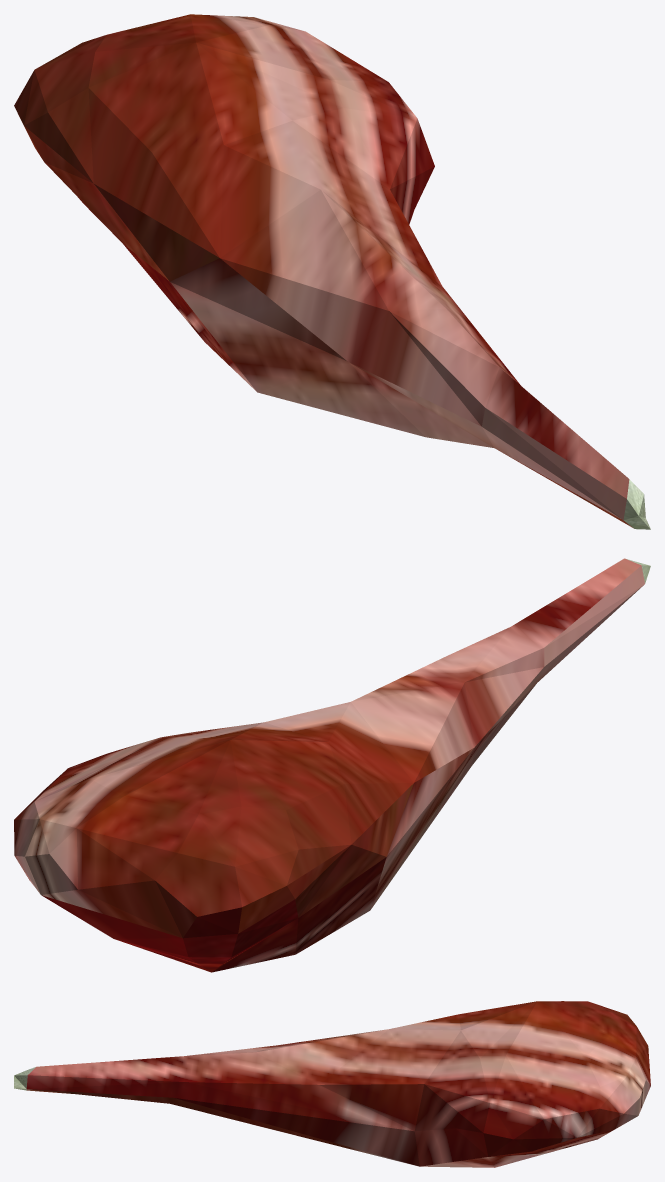
Rendered from ITFOMUTTONRAW.glb.
3 views of the same model, one above another, from view 1: azimuth 30°, elevation 25°; view 2: azimuth 150°, elevation 25°; view 3: azimuth 270°, elevation 25° (orthographic). The views are drawn at different scales.
Visible parts, largest first — view 1: ITFOMUTTONRAW; view 2: ITFOMUTTONRAW; view 3: ITFOMUTTONRAW.
Part boxes in pixels (x1=…): ITFOMUTTONRAW: x1=14, y1=14, x2=650, y2=529; ITFOMUTTONRAW: x1=14, y1=558, x2=650, y2=972; ITFOMUTTONRAW: x1=14, y1=1001, x2=650, y2=1167.
Size of the model in its own units: 0.1584 by 0.1308 by 0.4684.
Materials: 1 (1 with a texture image).
